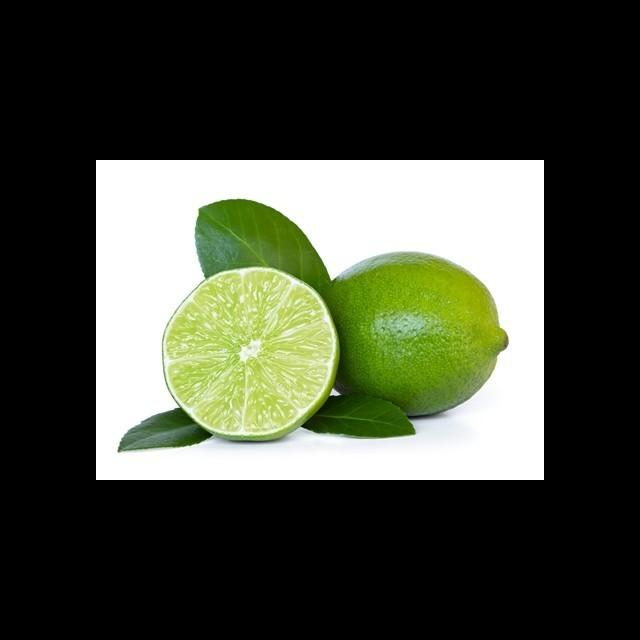lime: (300, 248, 513, 421)
